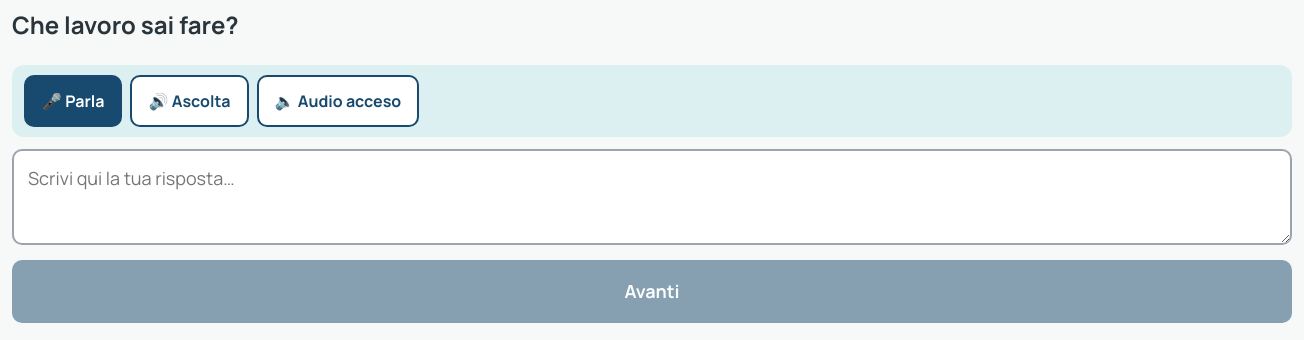
Test: dictated text lands in the field for review (does not auto-submit)
Click the button "🎤 Parla".
click(73, 101)  # box [24, 75, 122, 127]
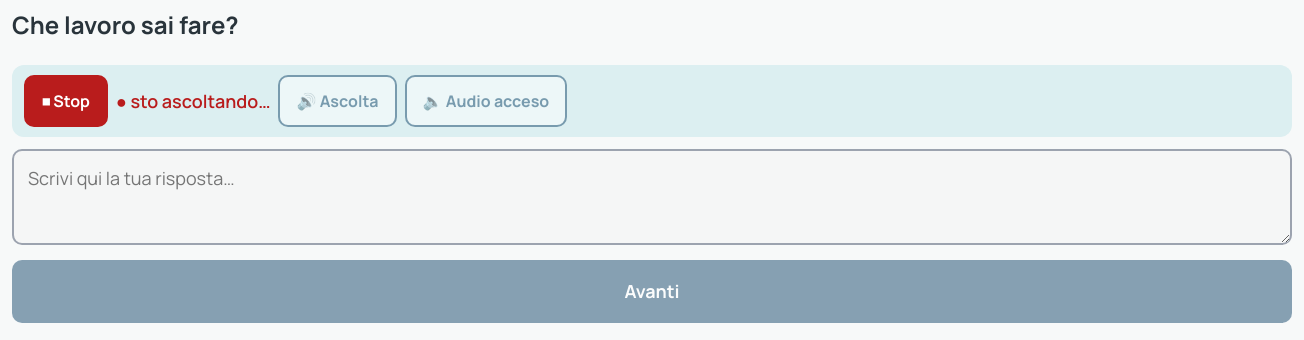
Click the button "⏹ Stop".
click(66, 101)  # box [24, 75, 108, 127]
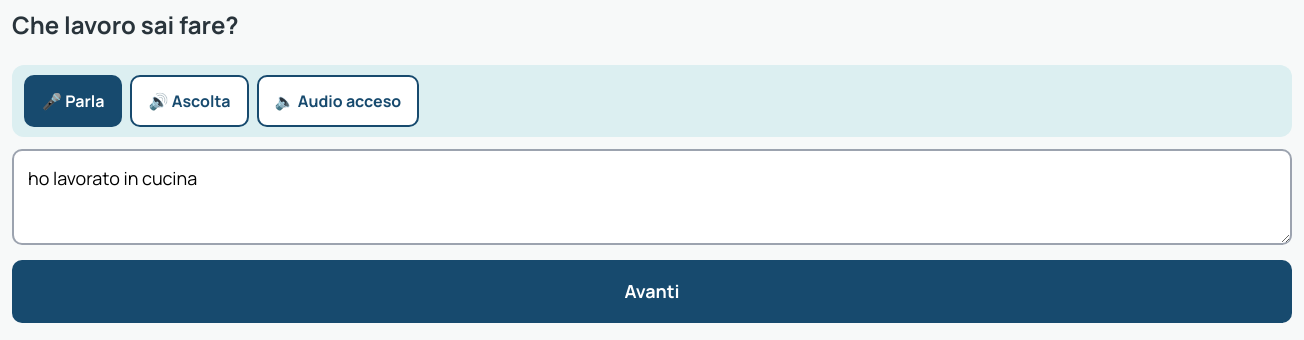
Expected: the text box holds "ho lavorato in cucina", [12, 149, 1292, 245]
